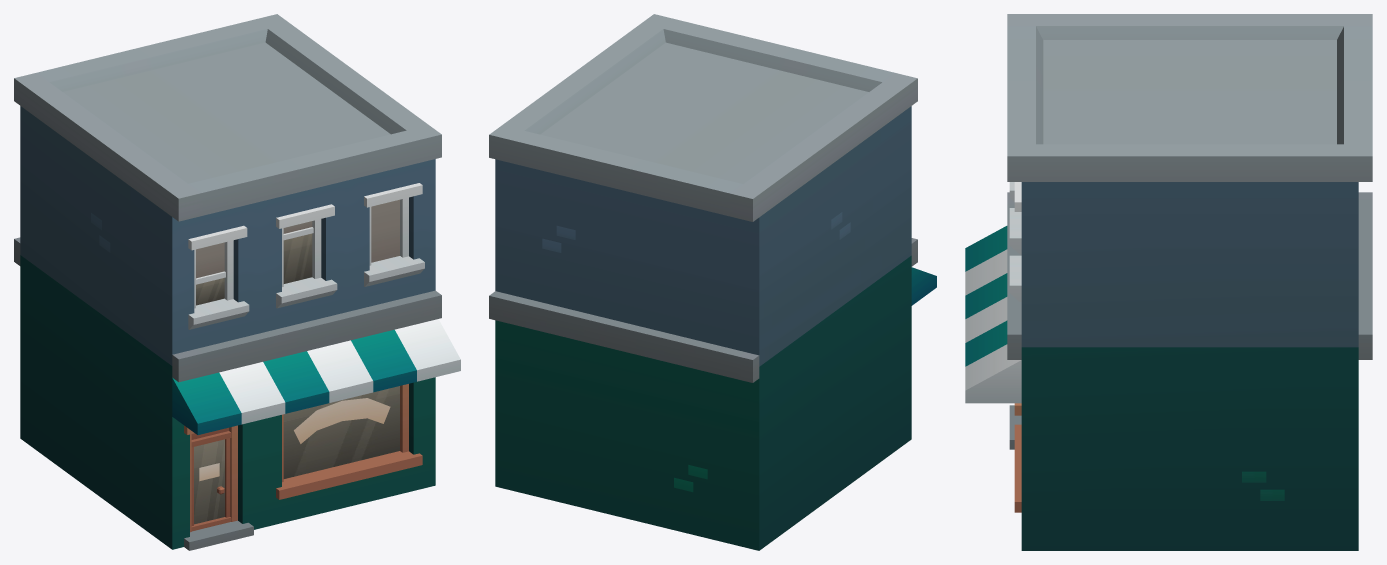
Rendered from city-a.glb.
The picture shows the model from 3 angles, left to right: view 1: azimuth 30°, elevation 25°; view 2: azimuth 150°, elevation 25°; view 3: azimuth 270°, elevation 25°; orthographic projection. The views are drawn at different scales.
Visible parts, largest first — view 1: building_A_withoutBase; view 2: building_A_withoutBase; view 3: building_A_withoutBase.
Part boxes in pixels (box(x1,y1,x2,y2)): building_A_withoutBase: box(14, 14, 460, 550); building_A_withoutBase: box(489, 14, 936, 550); building_A_withoutBase: box(965, 14, 1372, 550).
Size of the model in its own units: 1.21 by 1.55 by 1.45.
1 material, 1 textured.
